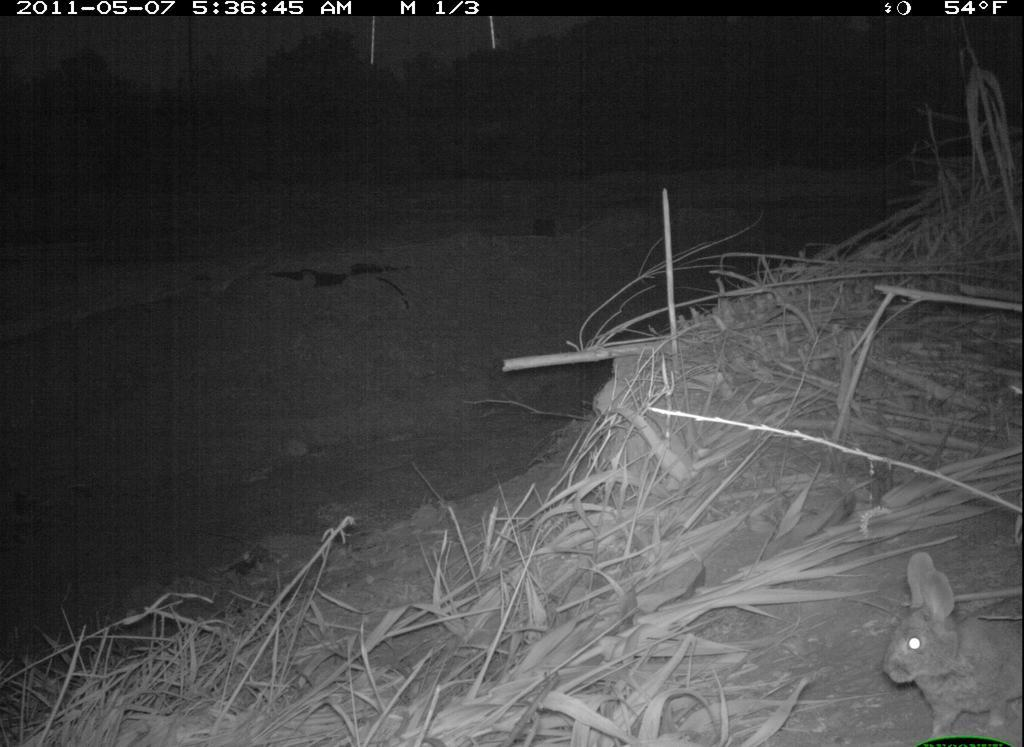rabbit: (877, 551, 1023, 743)
